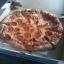pepperoni: (15, 19, 35, 33), (14, 32, 32, 46)
pizza: (1, 9, 62, 49)
